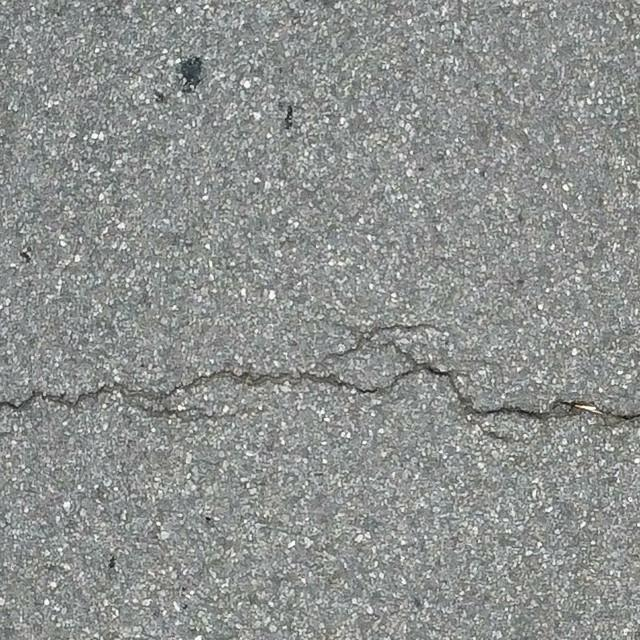TransverseCrack: (1, 324, 640, 421)
